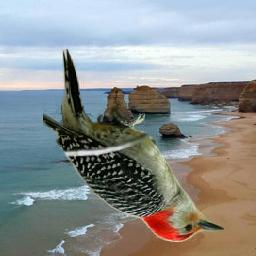Woodpecker: (44, 50, 225, 243)
